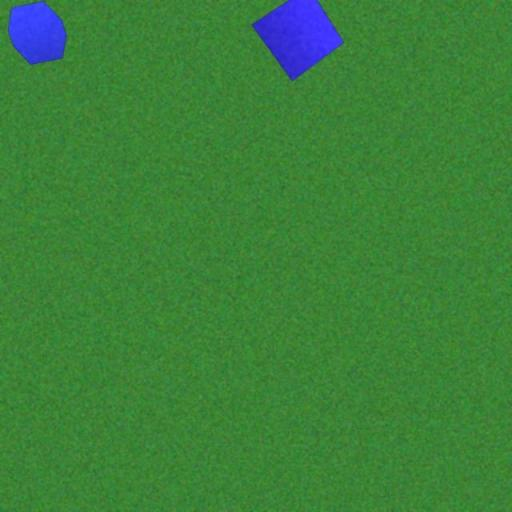BLUE_SQUARE: (250, 0, 345, 82)
